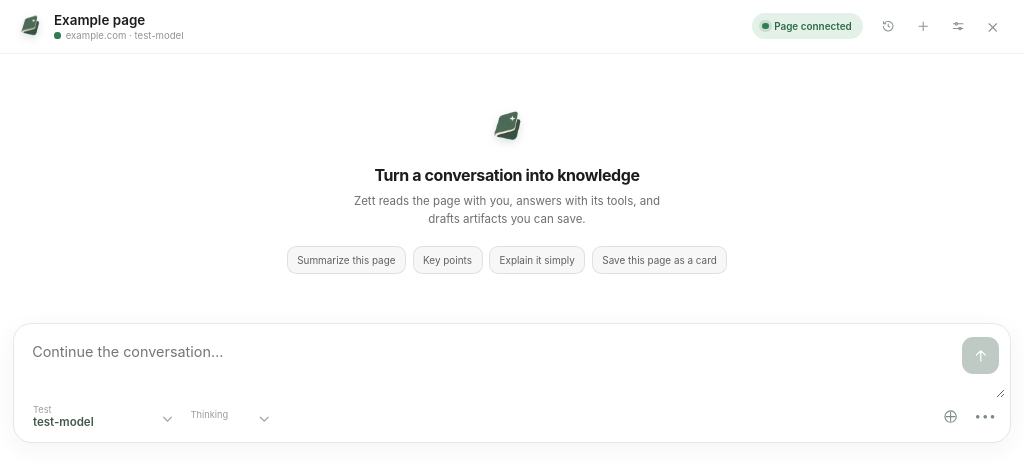
it: opens the More menu on hover and closes composer menus on leave or outside press
Expected: the button with class "send-button" is disabled, [962,337,999,374]
Click the button with class "model-trigger".
click(103, 416)  # box [27,400,180,433]
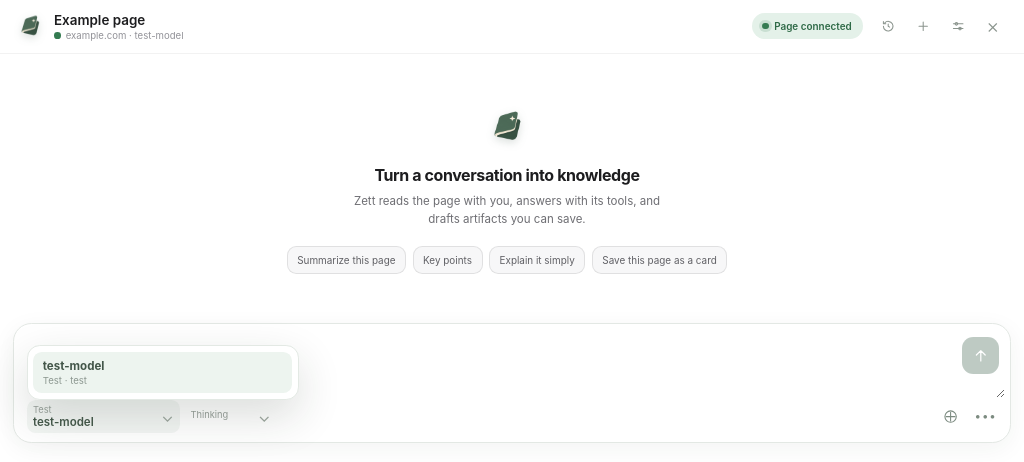
Now the list with class "model-popover" is shown, box [27,345,299,400]
Move the pointer off the element showing "Test test-model ⌄ test-model Test · test", box [27,400,180,433]
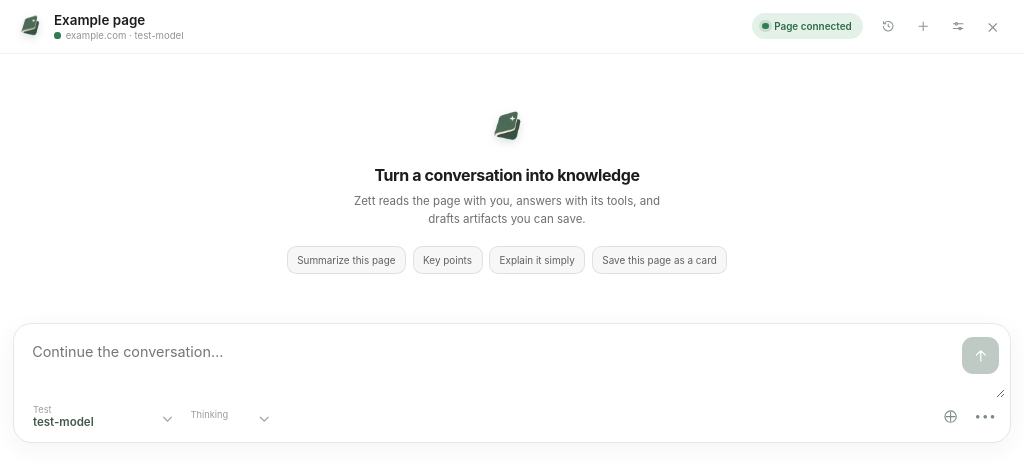
Now the list with class "model-popover" is gone
Hover over the element with class "more-menu".
mouse_move(985, 416)  # box [969,400,1001,432]
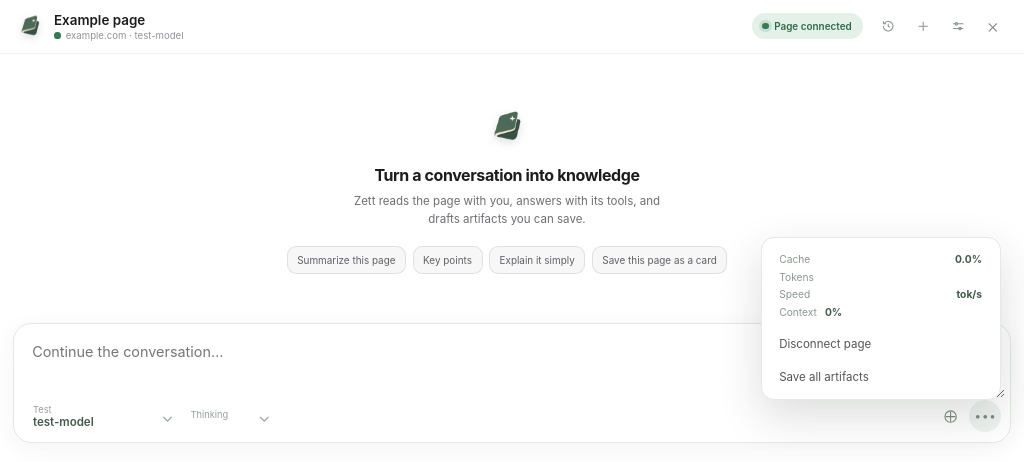
Now the element with class "more-popover" is shown, box [761,237,1001,400]
Move the pointer off the element with class "more-menu", box [969,400,1001,432]
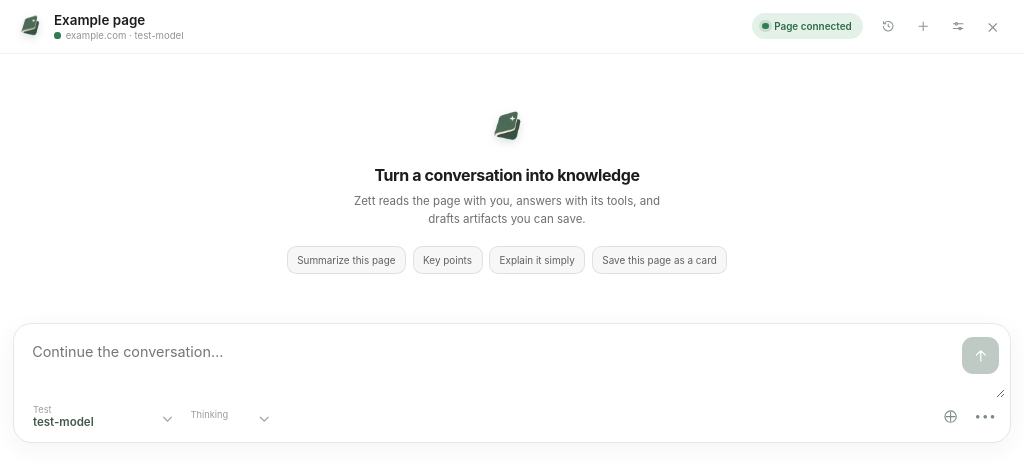
Now the element with class "more-popover" is gone
Click the button with class "more-trigger".
click(985, 416)  # box [969,400,1001,432]
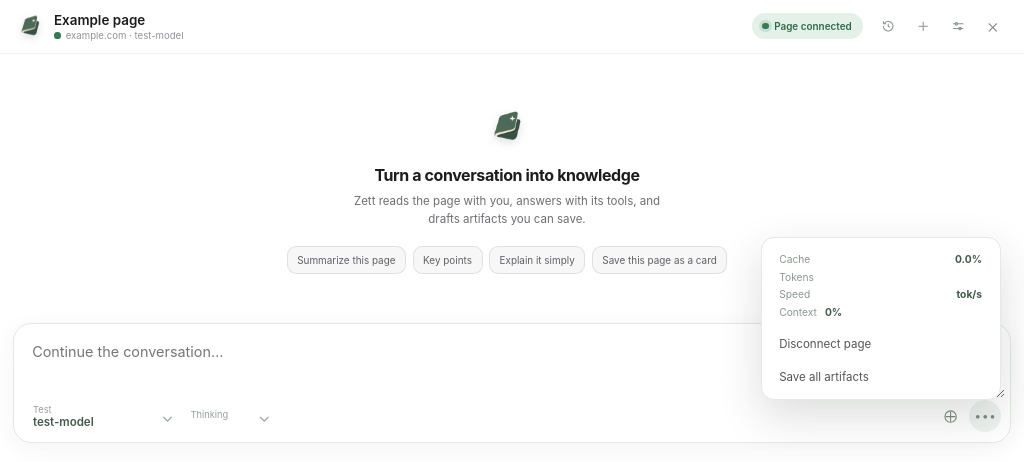
Now the element with class "more-popover" is shown, box [761,237,1001,400]
Press the mouse on the text "Example page" at point(100, 20), box [54,12,145,28]
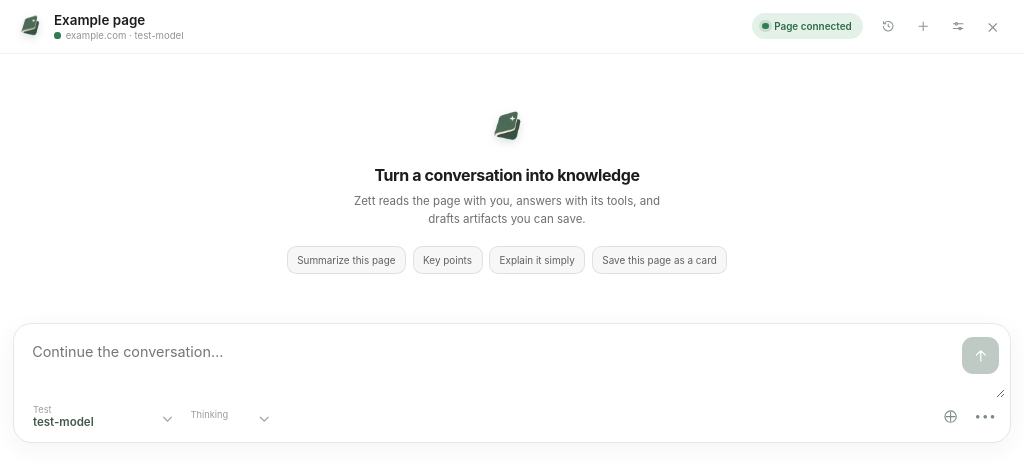
Now the element with class "more-popover" is gone
